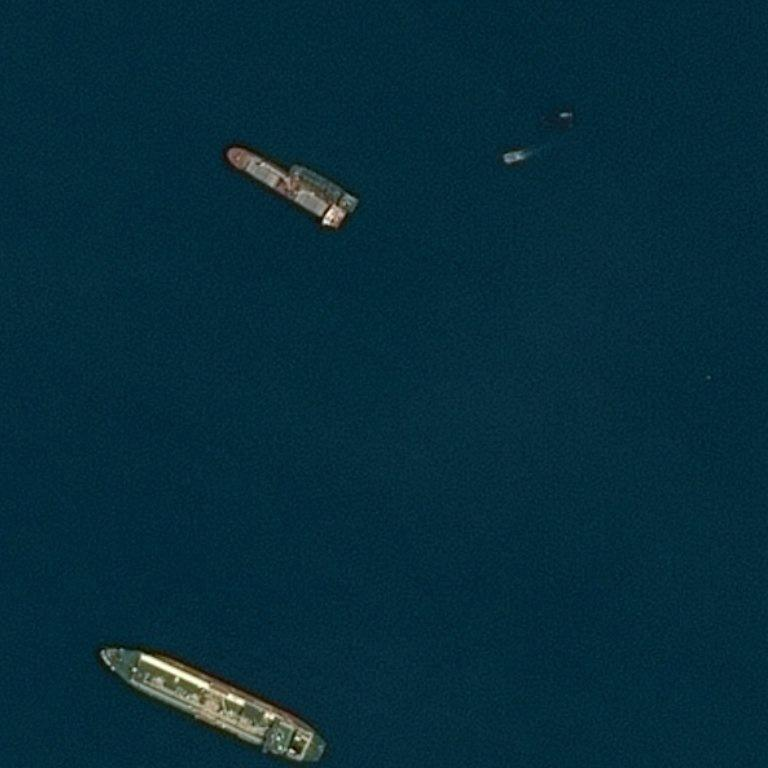ship: (91, 630, 335, 768), (219, 139, 349, 236), (286, 160, 362, 216)
